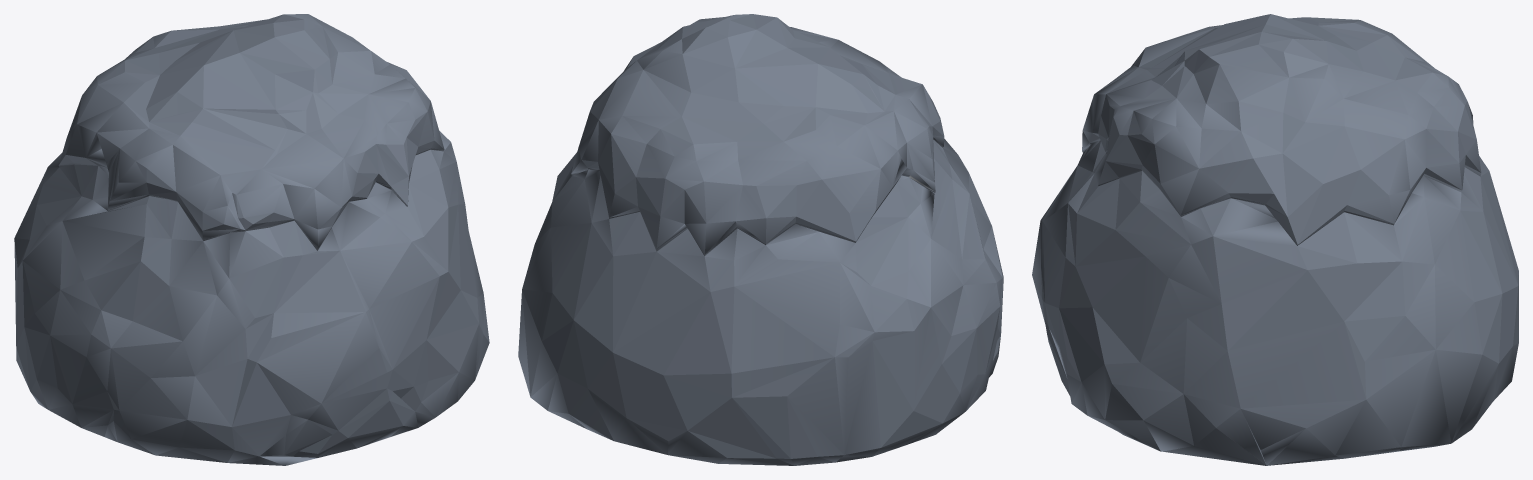
File: rock_flat.glb
3 views of the same model, side by side, from view 1: azimuth 30°, elevation 25°; view 2: azimuth 150°, elevation 25°; view 3: azimuth 270°, elevation 25° (orthographic). The views are drawn at different scales.
Visible parts, largest first — view 1: material; view 2: material; view 3: material.
Part boxes in pixels (x1,y1,x2,y2): material: (14,14,489,465); material: (518,14,1003,465); material: (1032,14,1518,465).
Bounding box in the file's own units: 1.27 × 1 × 1.27.
